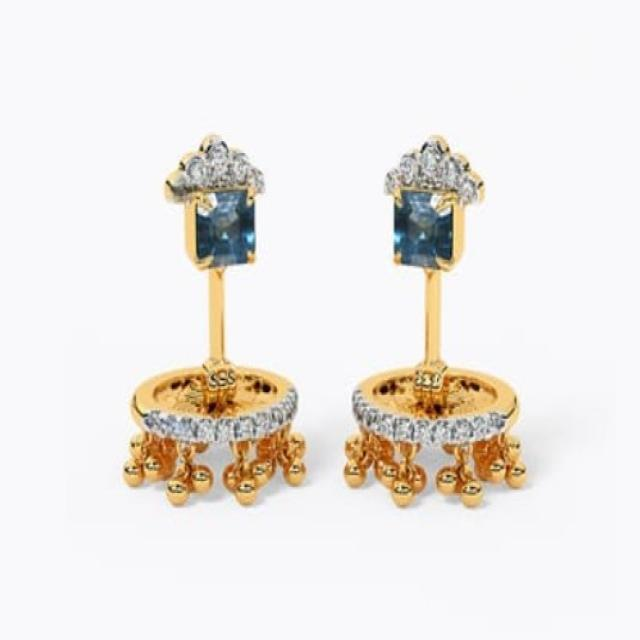missing gem: (492, 385, 522, 429)
